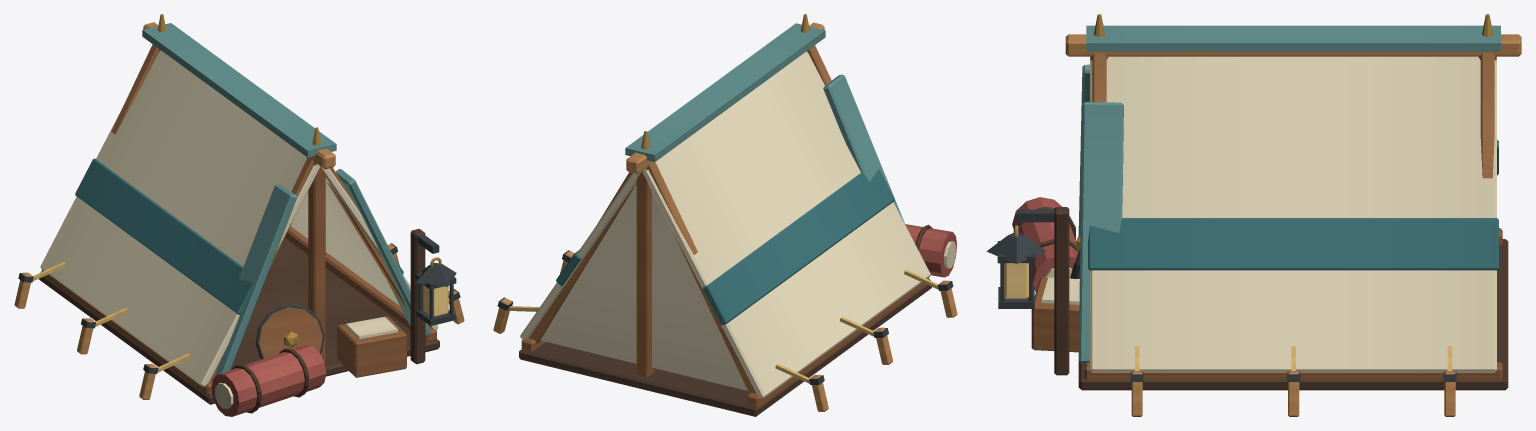
Rendered from traveler_tent.glb.
The picture shows the model from 3 angles, left to right: view 1: azimuth 30°, elevation 25°; view 2: azimuth 150°, elevation 25°; view 3: azimuth 270°, elevation 25°; orthographic projection. The views are drawn at different scales.
Visible parts, largest first — view 1: traveler_tent; view 2: traveler_tent; view 3: traveler_tent.
Boxes of the visible parts, <box> form: traveler_tent: <box>14,14,464,416</box>; traveler_tent: <box>493,14,957,416</box>; traveler_tent: <box>986,14,1521,416</box>.
Size of the model in its own units: 2.47 by 1.8 by 2.84.
1 material, 1 textured.
